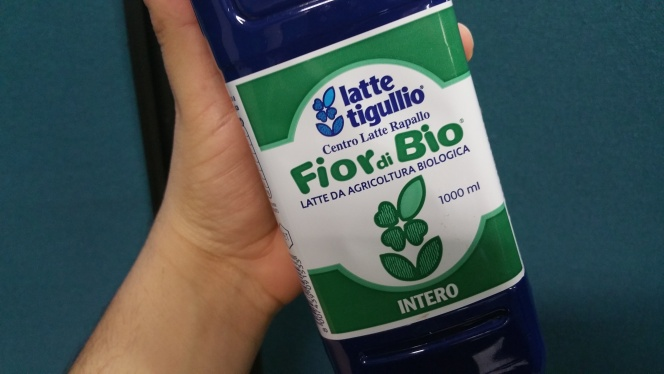bottle: (186, 2, 561, 373)
